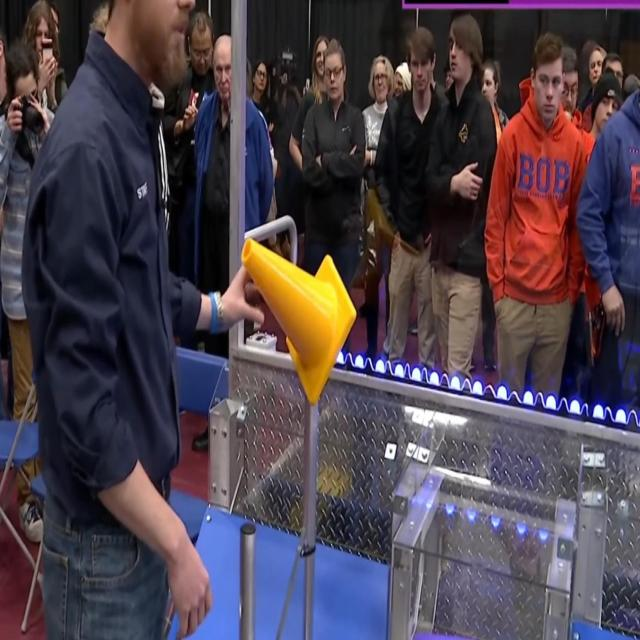frc_cone: (246, 236, 356, 400)
frc_cube: (409, 621, 509, 640)
